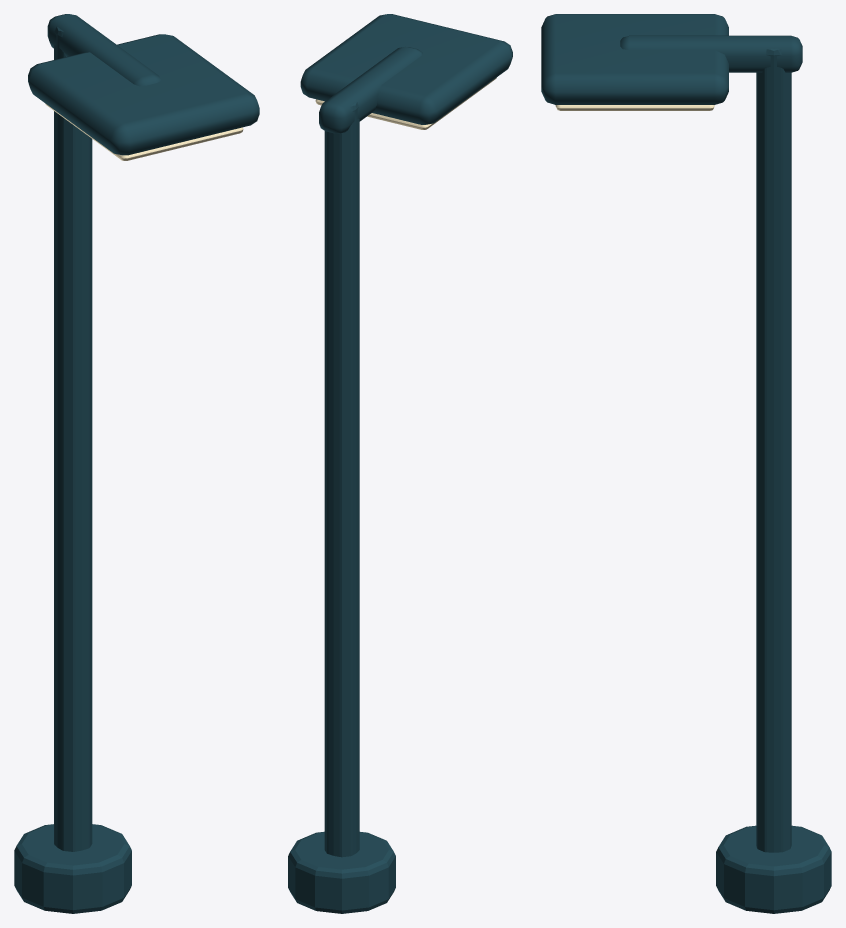
The model's file is lamp.glb.
The picture shows the model from 3 angles, left to right: view 1: azimuth 30°, elevation 25°; view 2: azimuth 150°, elevation 25°; view 3: azimuth 270°, elevation 25°; orthographic projection. The views are drawn at different scales.
Parts seen in each view (by area): view 1: Lamp shaft, Lamp hood, Lamp pedestal, Lamp arm, Warm diffuser; view 2: Lamp shaft, Lamp hood, Lamp pedestal, Lamp arm, Warm diffuser; view 3: Lamp shaft, Lamp hood, Lamp pedestal, Lamp arm, Warm diffuser.
Boxes of the visible parts, bbox=[...] form: Lamp shaft: bbox=[54, 27, 92, 851]; Lamp hood: bbox=[28, 34, 259, 155]; Lamp pedestal: bbox=[14, 824, 131, 913]; Lamp arm: bbox=[47, 14, 161, 86]; Warm diffuser: bbox=[45, 103, 243, 160]; Lamp shaft: bbox=[324, 102, 359, 857]; Lamp hood: bbox=[300, 14, 512, 124]; Lamp pedestal: bbox=[288, 831, 395, 913]; Lamp arm: bbox=[319, 46, 422, 133]; Warm diffuser: bbox=[315, 77, 496, 129]; Lamp shaft: bbox=[756, 48, 791, 852]; Lamp hood: bbox=[541, 14, 728, 104]; Lamp pedestal: bbox=[716, 825, 831, 913]; Lamp arm: bbox=[620, 35, 802, 72]; Warm diffuser: bbox=[555, 105, 714, 110].
Bounding box in the file's own units: 0.58 × 3.26 × 1.
